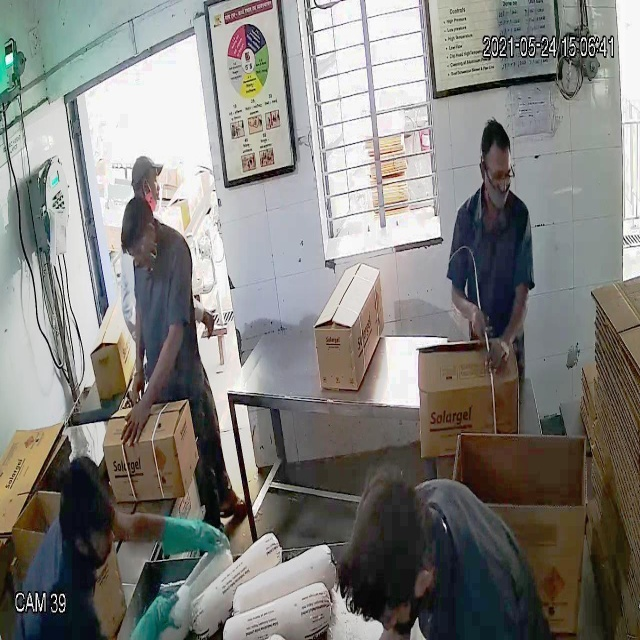Gafas: (477, 156, 521, 193)
